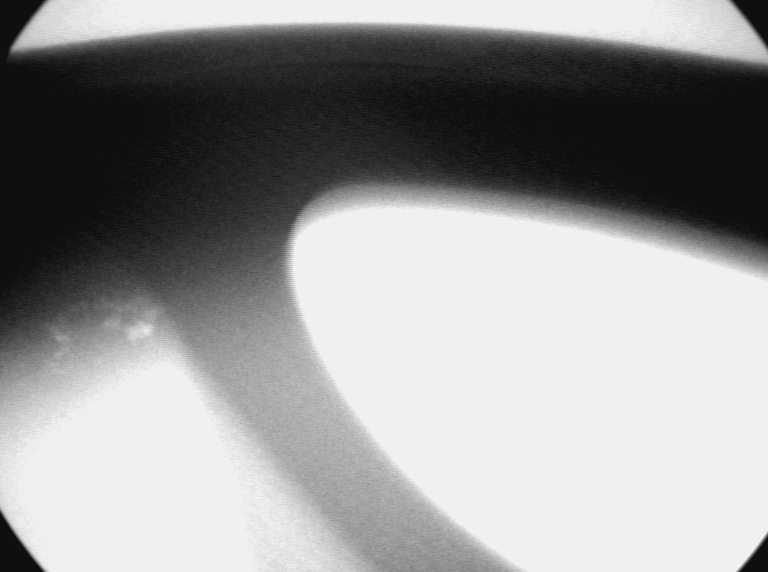defect: (39, 285, 164, 373)
